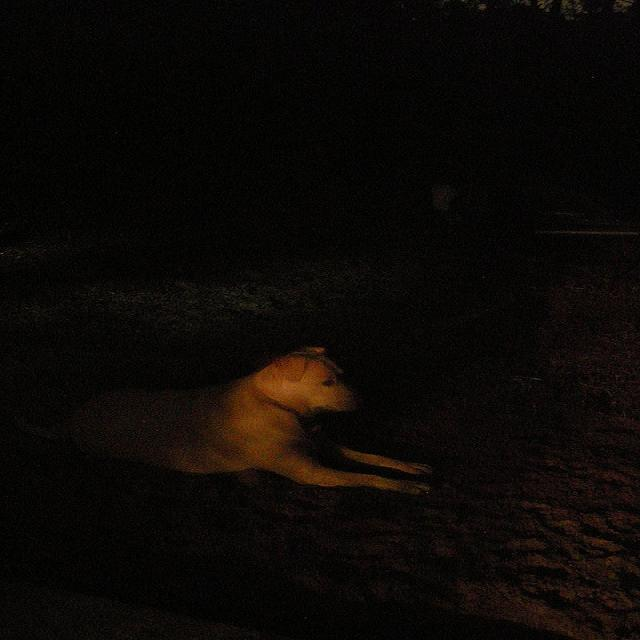Dog: (134, 247, 454, 618)
